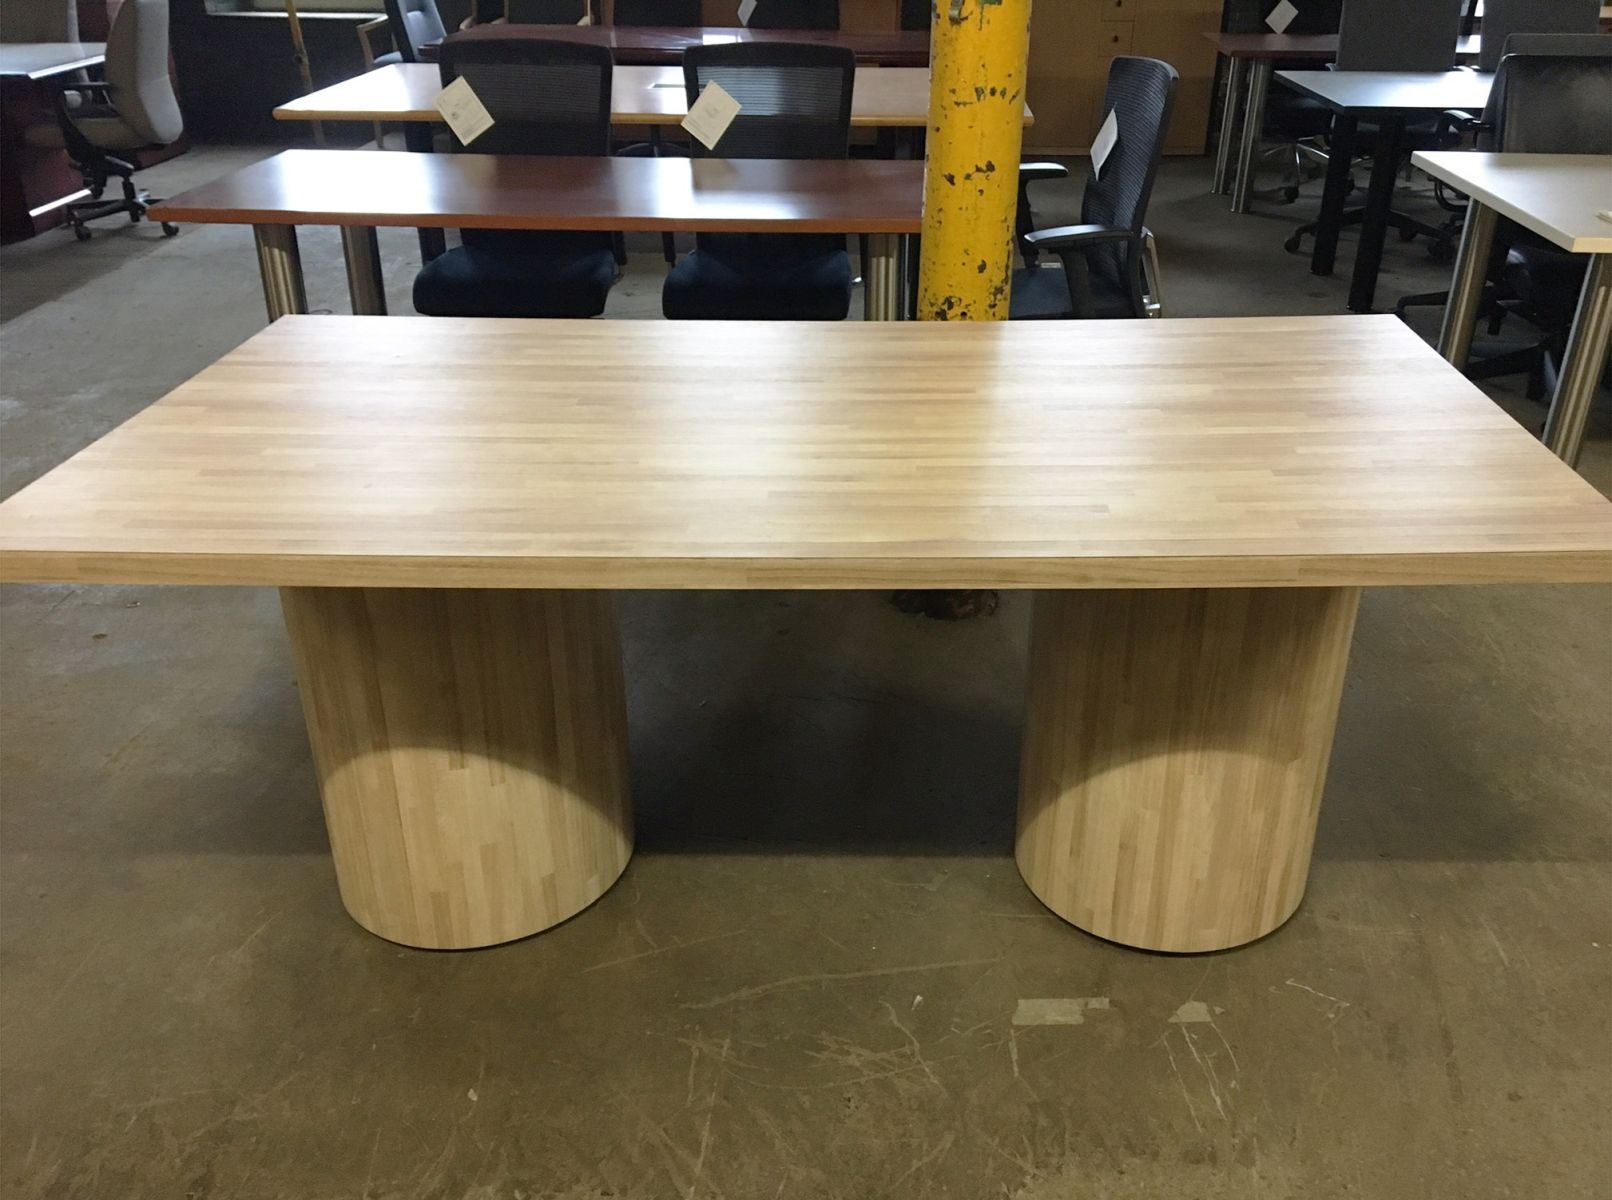conference_table: (3, 315, 1612, 959), (145, 149, 922, 321), (1263, 70, 1612, 323), (269, 63, 1035, 158), (1409, 151, 1612, 472), (401, 20, 927, 65), (1, 40, 106, 235)
